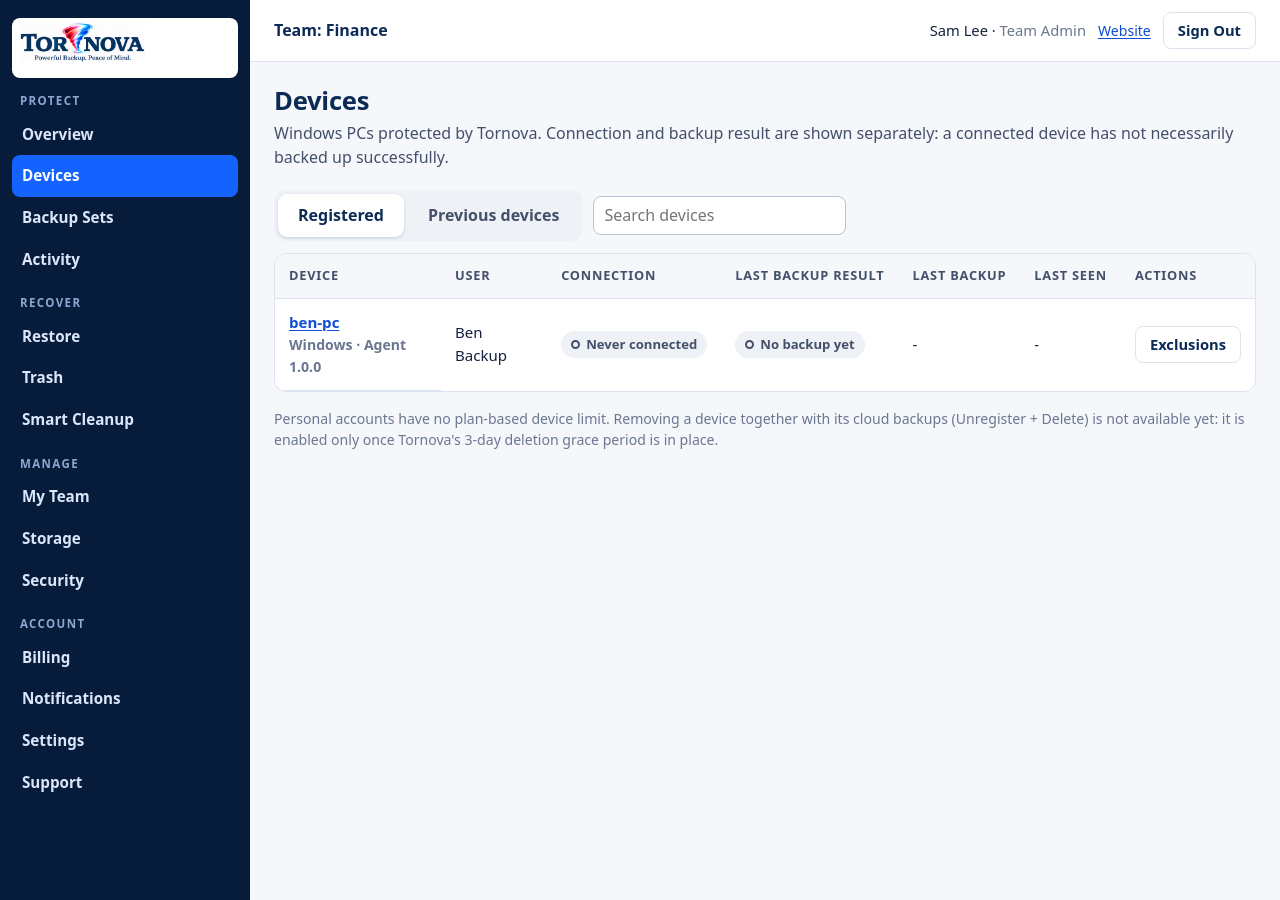
Test: Device exclusions (Stage 13C): the website is the only editor › a Team Admin (no device-management capability) can open the dialog and edit; Unregister stays hidden
Click the button "Exclusions". click: (1188, 344)
box: top-left (1135, 326), bottom-right (1241, 363)
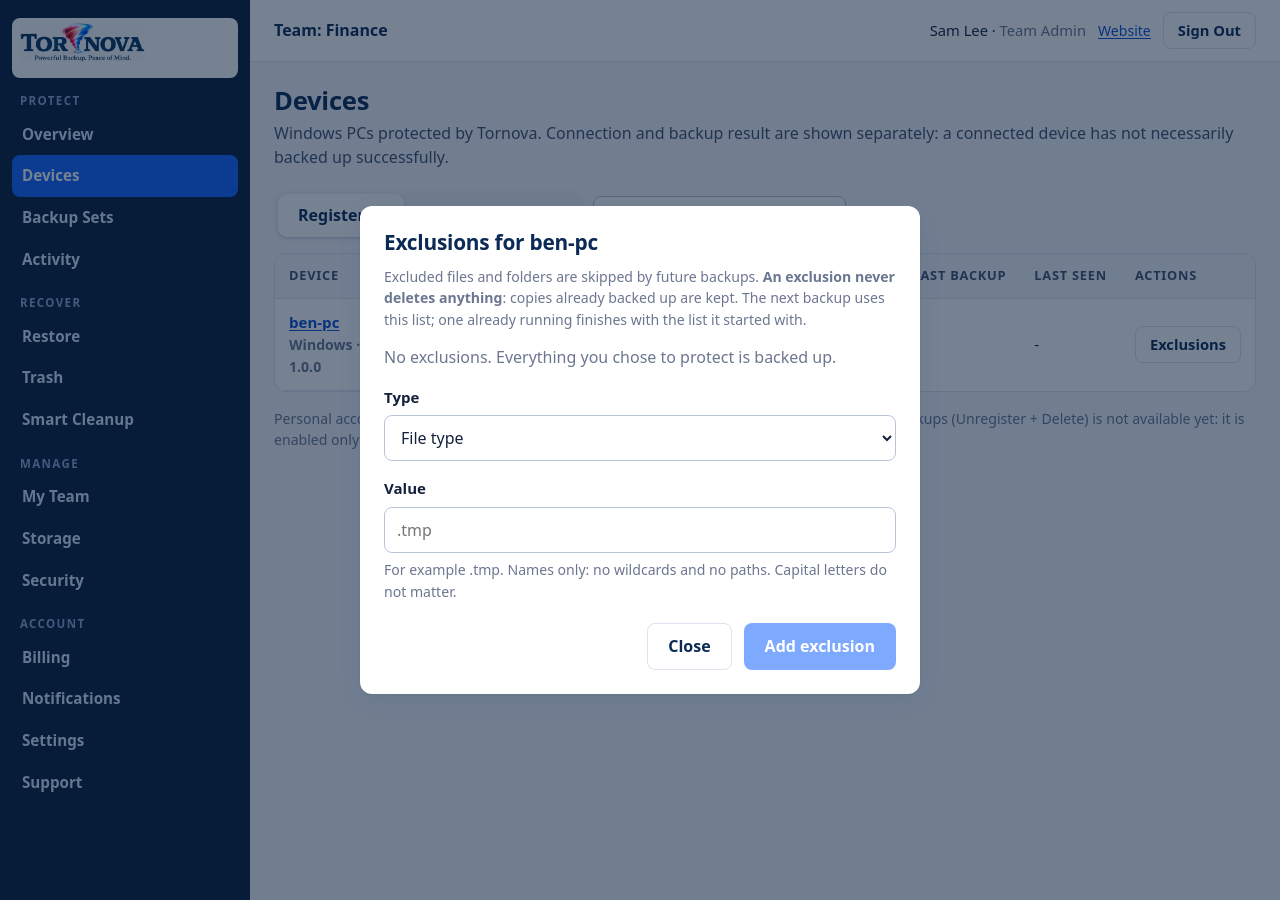
Check: the button "Add exclusion" is shown, box top-left (744, 623), bottom-right (896, 670)
Check: the text "No exclusions. Everything you chose to protect is backed up." is shown, box top-left (384, 345), bottom-right (896, 370)
